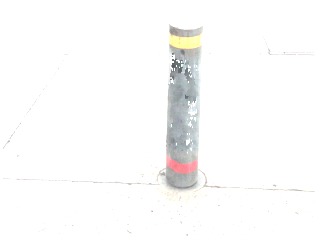Obstacle: (157, 10, 205, 196)
